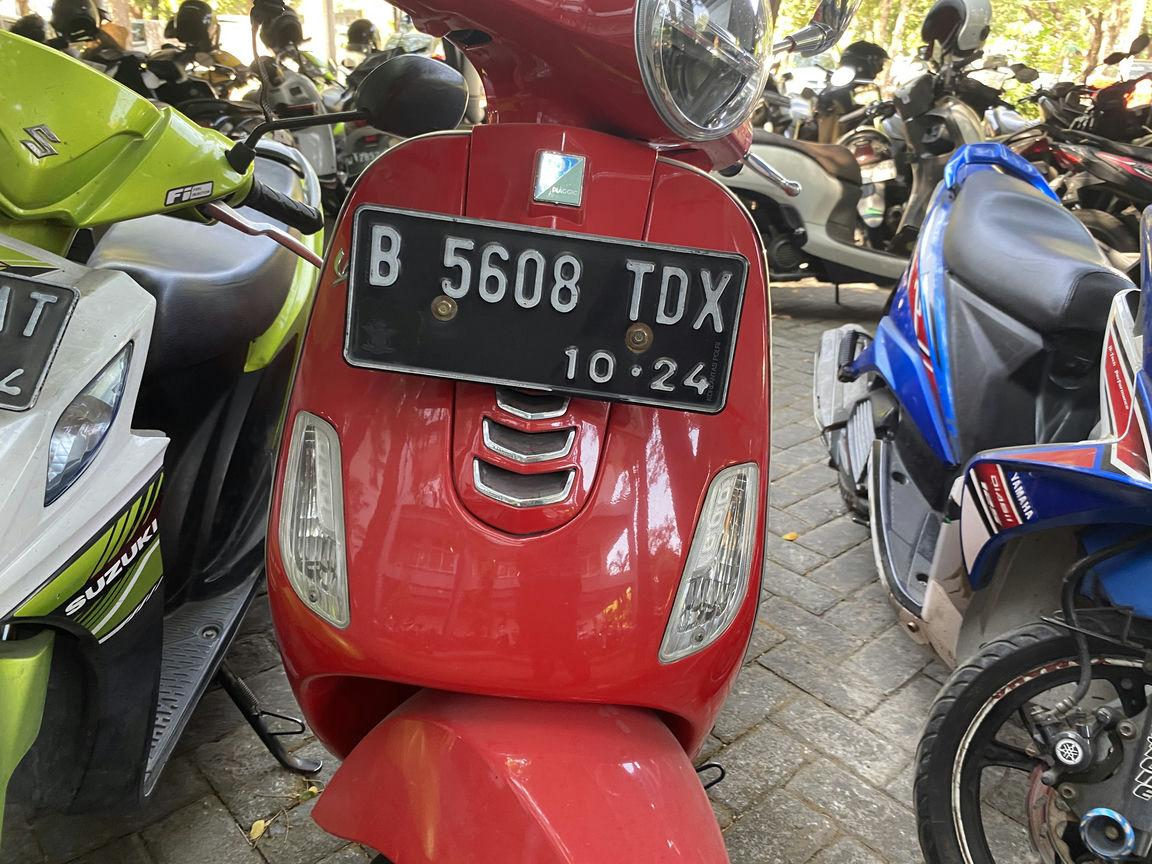plat: (344, 205, 747, 414)
